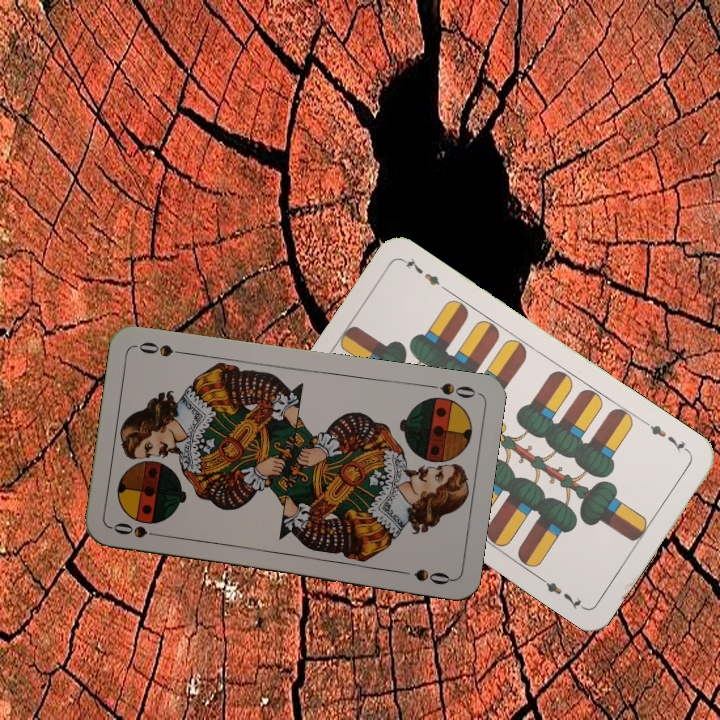E7: (640, 417, 693, 456)
SO: (109, 518, 167, 540), (421, 379, 478, 401)
